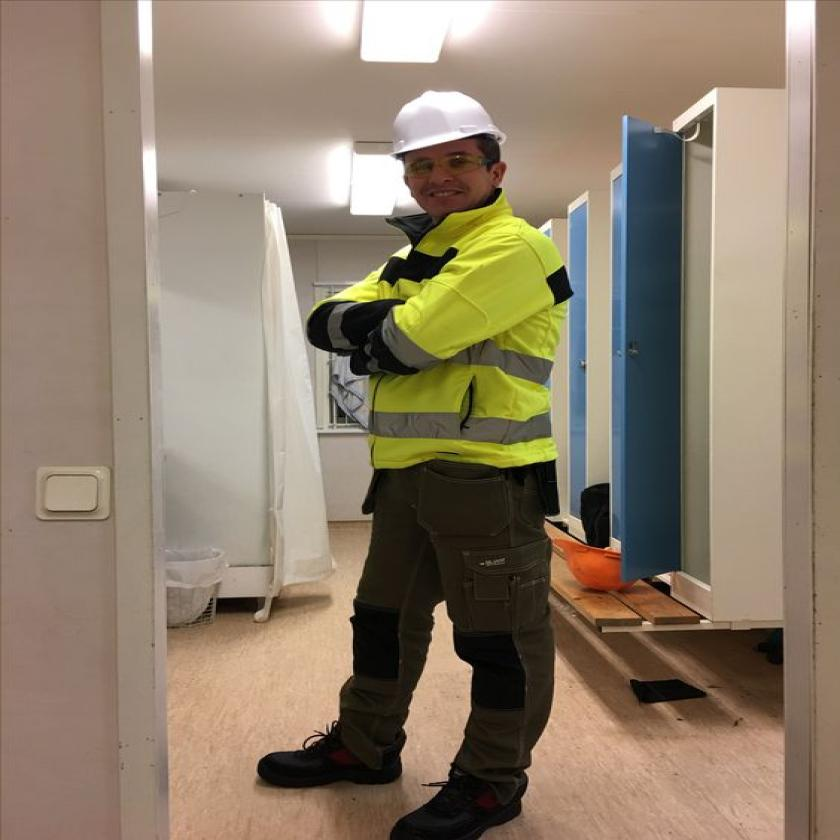Con_casco: (373, 71, 551, 233)
